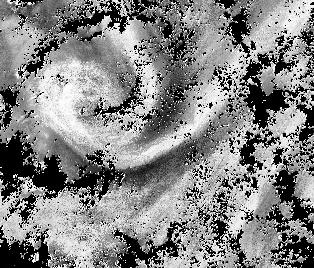AE: (18, 24, 205, 172)
